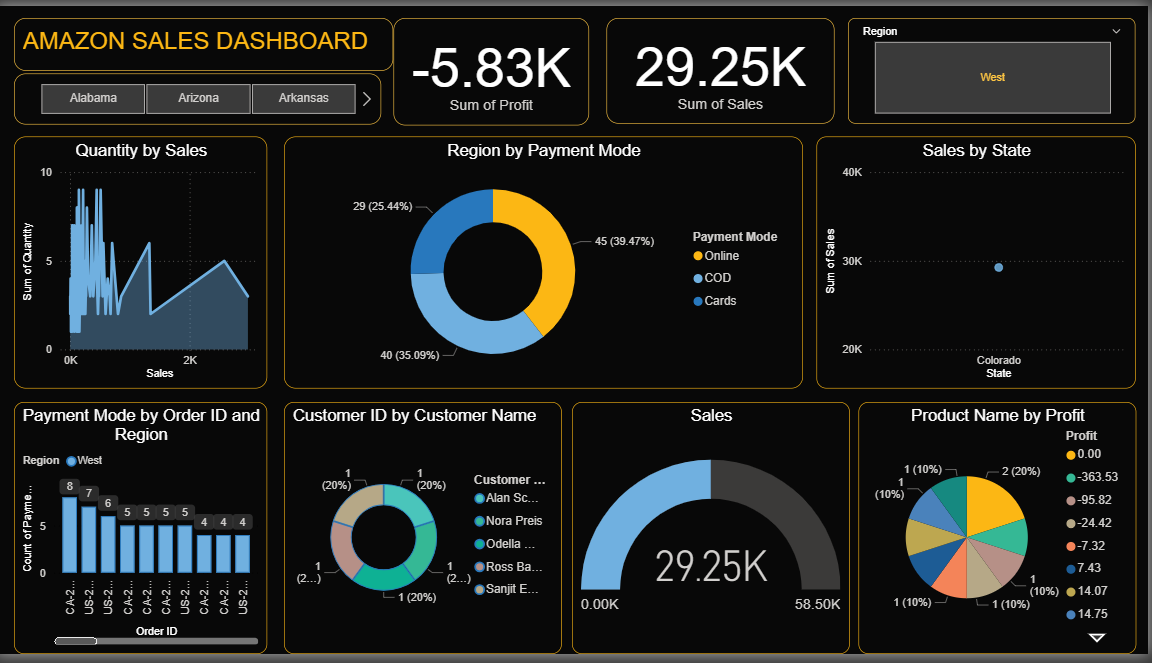

The dashboard page shown, as its layout file describes it:
{"tool":"powerbi","page":{"name":"Page 1","canvas":[1280,720],"ordinal":0},"visuals":[{"type":"donutChart","title":"Customer ID by Customer Name","fields":{"Category":["Amazon Store Sales Data xlsx - Sheet1 (1).Customer Name"],"Y":["CountNonNull(Amazon Store Sales Data xlsx - Sheet1 (1).Customer ID)"]},"box":[319.7,440.6,308.6,279.9],"z":0},{"type":"lineClusteredColumnComboChart","title":"Payment Mode by Order ID and Region","fields":{"Category":["Amazon Store Sales Data xlsx - Sheet1 (1).Order ID"],"Y":["CountNonNull(Amazon Store Sales Data xlsx - Sheet1 (1).Payment Mode)"],"Series":["Amazon Store Sales Data xlsx - Sheet1 (1).Region"]},"box":[20.7,440.6,281.5,279.9],"z":1000},{"type":"gauge","title":"Sales","fields":{"Y":["Sum(Amazon Store Sales Data xlsx - Sheet1 (1).Sales)"]},"box":[639.4,440.6,308.6,279.9],"z":2000},{"type":"pieChart","title":"Product Name by Profit","fields":{"Category":["Amazon Store Sales Data xlsx - Sheet1 (1).Profit"],"Y":["CountNonNull(Amazon Store Sales Data xlsx - Sheet1 (1).Product Name)"]},"box":[957.5,440.6,308.6,279.9],"z":3000},{"type":"scatterChart","title":"Sales by State","fields":{"X":["Amazon Store Sales Data xlsx - Sheet1 (1).State"],"Y":["Sum(Amazon Store Sales Data xlsx - Sheet1 (1).Sales)"]},"box":[911.4,144.7,354.7,279.9],"z":4000},{"type":"areaChart","title":"Quantity by Sales","fields":{"Category":["Amazon Store Sales Data xlsx - Sheet1 (1).Sales"],"Y":["Sum(Amazon Store Sales Data xlsx - Sheet1 (1).Quantity)"]},"box":[20.7,144.7,281.5,279.9],"z":5000},{"type":"donutChart","title":"Region by Payment Mode","fields":{"Category":["Amazon Store Sales Data xlsx - Sheet1 (1).Payment Mode"],"Y":["CountNonNull(Amazon Store Sales Data xlsx - Sheet1 (1).Region)"]},"box":[319.4,145.5,576.4,279.7],"z":6000},{"type":"slicer","fields":{"Values":["Amazon Store Sales Data xlsx - Sheet1 (1).Region"]},"box":[946.8,13.2,319.4,117.2],"z":7000},{"type":"card","fields":{"Values":["Sum(Amazon Store Sales Data xlsx - Sheet1 (1).Sales)"]},"box":[678.4,13.2,253.2,117.2],"z":8000},{"type":"card","fields":{"Values":["Sum(Amazon Store Sales Data xlsx - Sheet1 (1).Profit)"]},"box":[442.2,13.2,217.3,119.1],"z":9000},{"type":"textbox","box":[20.8,13.2,421.4,58.6],"z":10000},{"type":"slicer","fields":{"Values":["Amazon Store Sales Data xlsx - Sheet1 (1).State"]},"box":[20.8,75.6,408.2,56.7],"z":11000}]}

Visuals, with their boxes in screenshot pixels (x1, y1, x2, y2), scaled from the page's 1280x720 canvas onto the 1152x663 screenshot:
"Customer ID by Customer Name" donutChart: l=288, t=406, r=565, b=662
"Payment Mode by Order ID and Region" lineClusteredColumnComboChart: l=19, t=406, r=272, b=662
"Sales" gauge: l=575, t=406, r=853, b=662
"Product Name by Profit" pieChart: l=862, t=406, r=1139, b=662
"Sales by State" scatterChart: l=820, t=133, r=1139, b=391
"Quantity by Sales" areaChart: l=19, t=133, r=272, b=391
"Region by Payment Mode" donutChart: l=287, t=134, r=806, b=392
slicer - Amazon Store Sales Data xlsx - Sheet1 (1).Region: l=852, t=12, r=1140, b=120
card - Sum(Amazon Store Sales Data xlsx - Sheet1 (1).Sales): l=611, t=12, r=838, b=120
card - Sum(Amazon Store Sales Data xlsx - Sheet1 (1).Profit): l=398, t=12, r=594, b=122
textbox: l=19, t=12, r=398, b=66
slicer - Amazon Store Sales Data xlsx - Sheet1 (1).State: l=19, t=70, r=386, b=122
